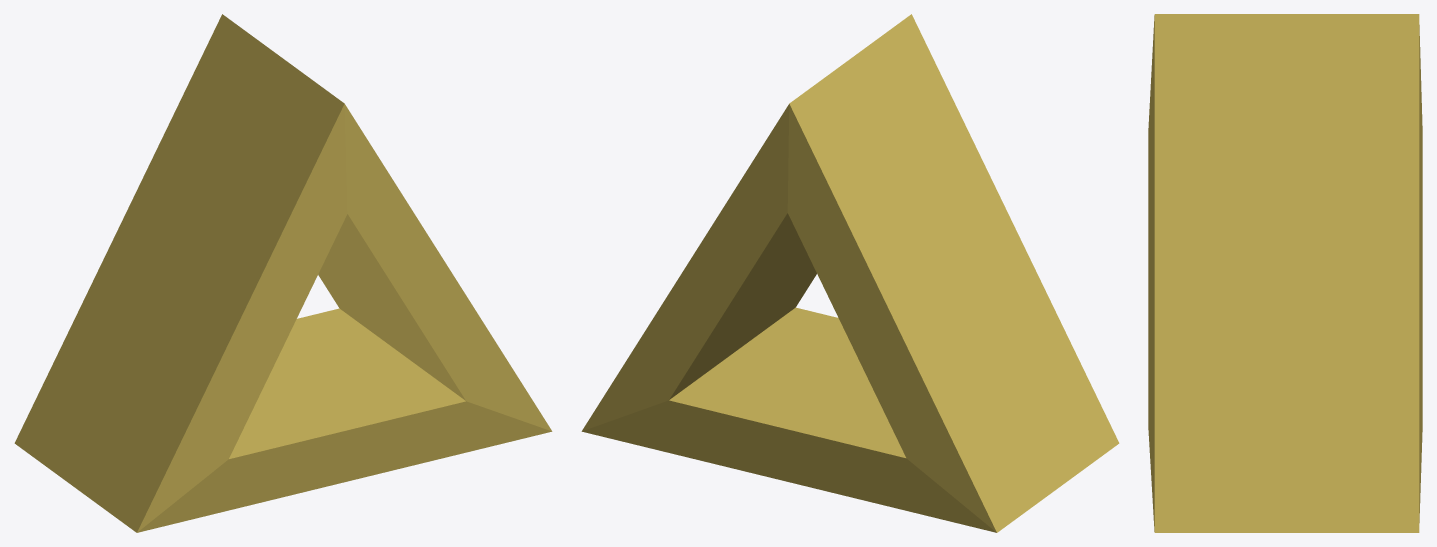
The model's file is Tris_hole.fbx.
3 views of the same model, side by side, from view 1: azimuth 30°, elevation 25°; view 2: azimuth 150°, elevation 25°; view 3: azimuth 270°, elevation 25° (orthographic). The views are drawn at different scales.
Visible parts, largest first — view 1: Tris_hole; view 2: Tris_hole; view 3: Tris_hole.
Boxes of the visible parts, <box> form: Tris_hole: <box>14,14,552,532</box>; Tris_hole: <box>581,14,1119,532</box>; Tris_hole: <box>1148,14,1422,532</box>.
Size of the model in its own units: 31.11 by 27.09 by 16.45.
